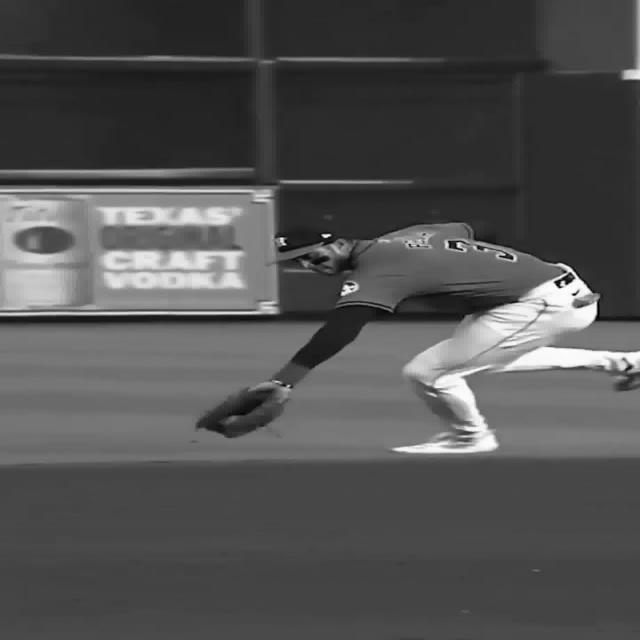baseball_glove: (193, 379, 293, 438)
shoe: (390, 428, 499, 454), (607, 353, 639, 391)
